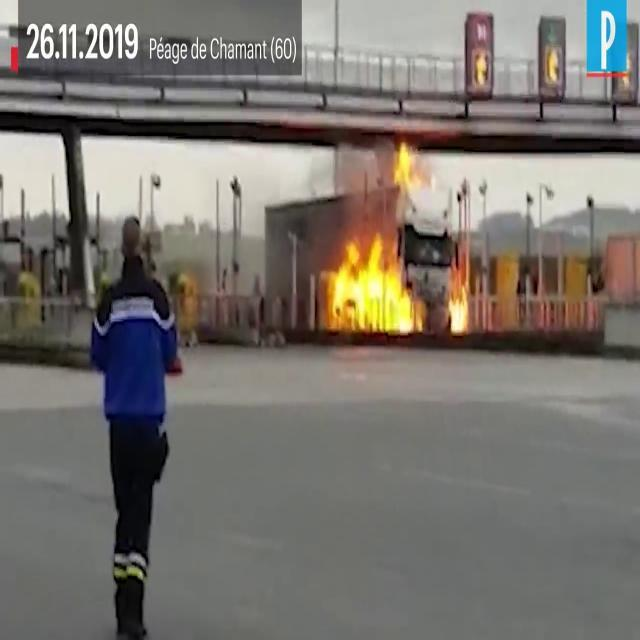Fire: (318, 144, 427, 338), (444, 250, 476, 338)
